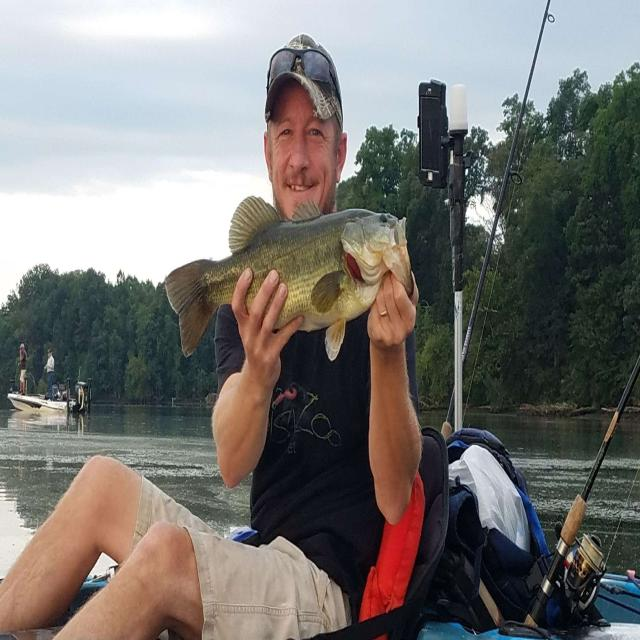Bass - Largemouth: (165, 197, 413, 360)
